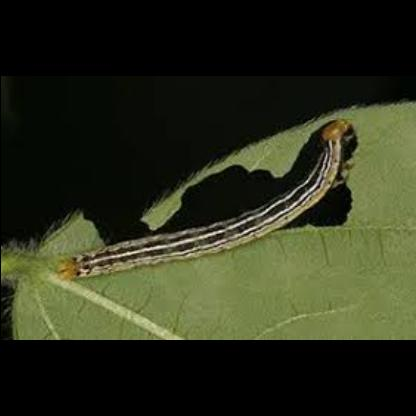oruga: (54, 116, 352, 286)
